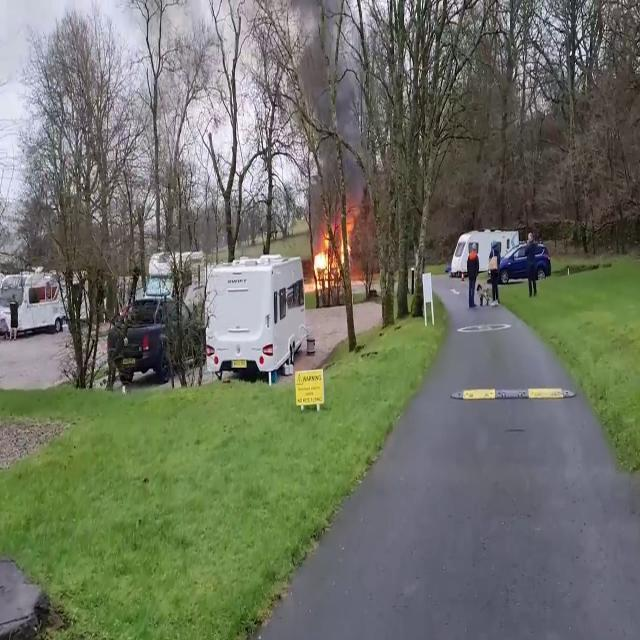Fire: (306, 230, 342, 289)
Smoke: (258, 2, 385, 226)
